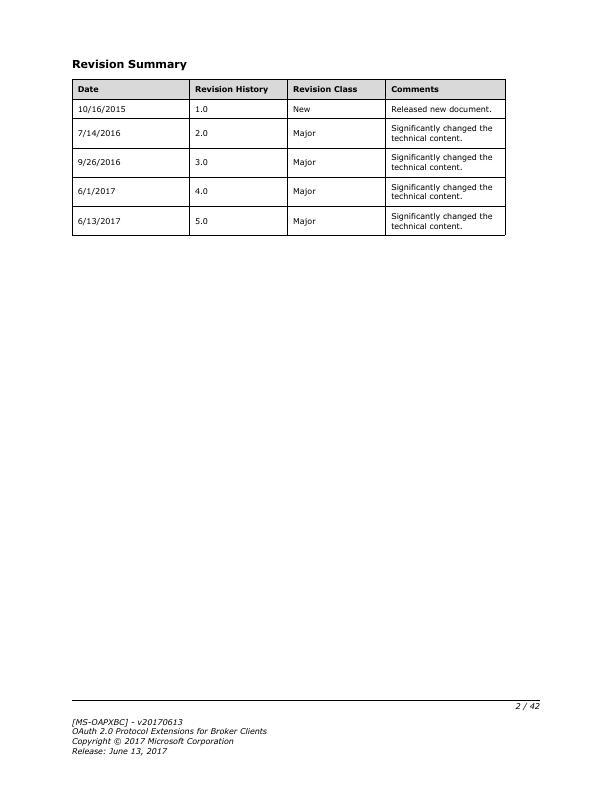table: (71, 78, 508, 238)
text: (70, 714, 268, 757), (70, 56, 187, 73)
